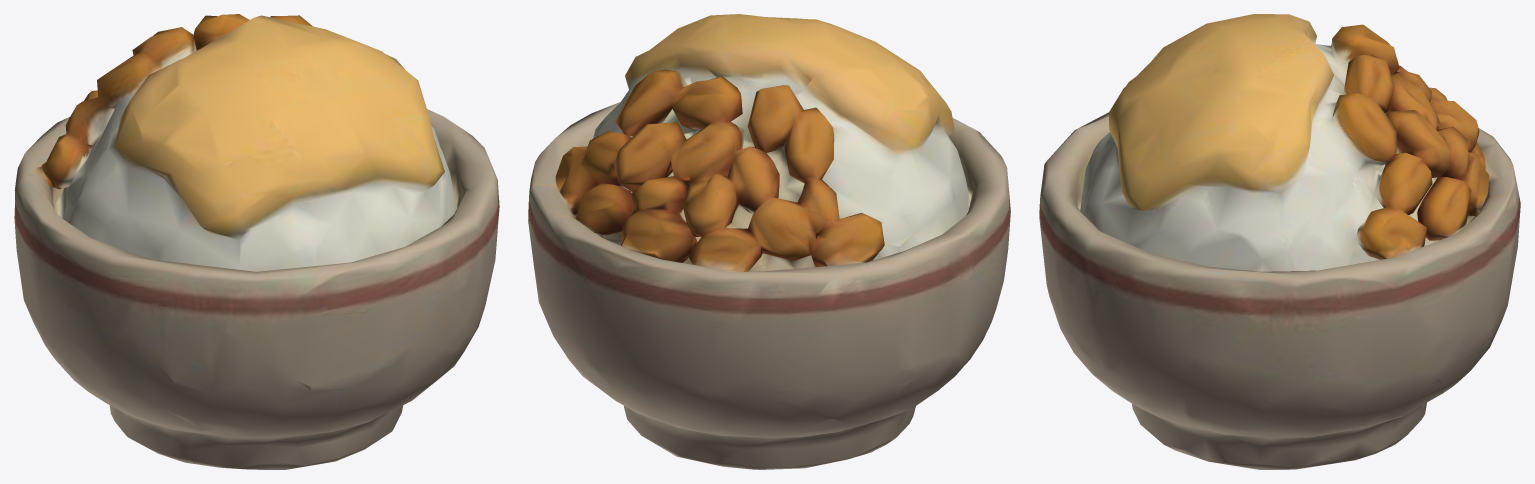
File: TW_사물_s3_food_tier3_peanut_douhua.glb
3 views of the same model, side by side, from view 1: azimuth 30°, elevation 25°; view 2: azimuth 150°, elevation 25°; view 3: azimuth 270°, elevation 25° (orthographic).
Parts seen in each view (by area): view 1: tripo_node_be0f9653-7f46-4e8d-87d6-c4ca6e9b9fa8; view 2: tripo_node_be0f9653-7f46-4e8d-87d6-c4ca6e9b9fa8; view 3: tripo_node_be0f9653-7f46-4e8d-87d6-c4ca6e9b9fa8.
Part boxes in pixels (<box>): tripo_node_be0f9653-7f46-4e8d-87d6-c4ca6e9b9fa8: <box>14,14,499,469</box>; tripo_node_be0f9653-7f46-4e8d-87d6-c4ca6e9b9fa8: <box>528,14,1010,469</box>; tripo_node_be0f9653-7f46-4e8d-87d6-c4ca6e9b9fa8: <box>1039,14,1520,469</box>.
Bounding box in the file's own units: 0.4584 × 0.4 × 0.4611.
1 material, 1 textured.
